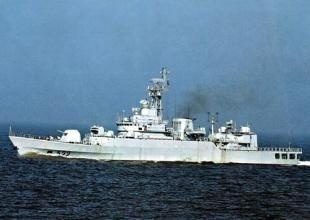warship: (7, 64, 309, 166)
